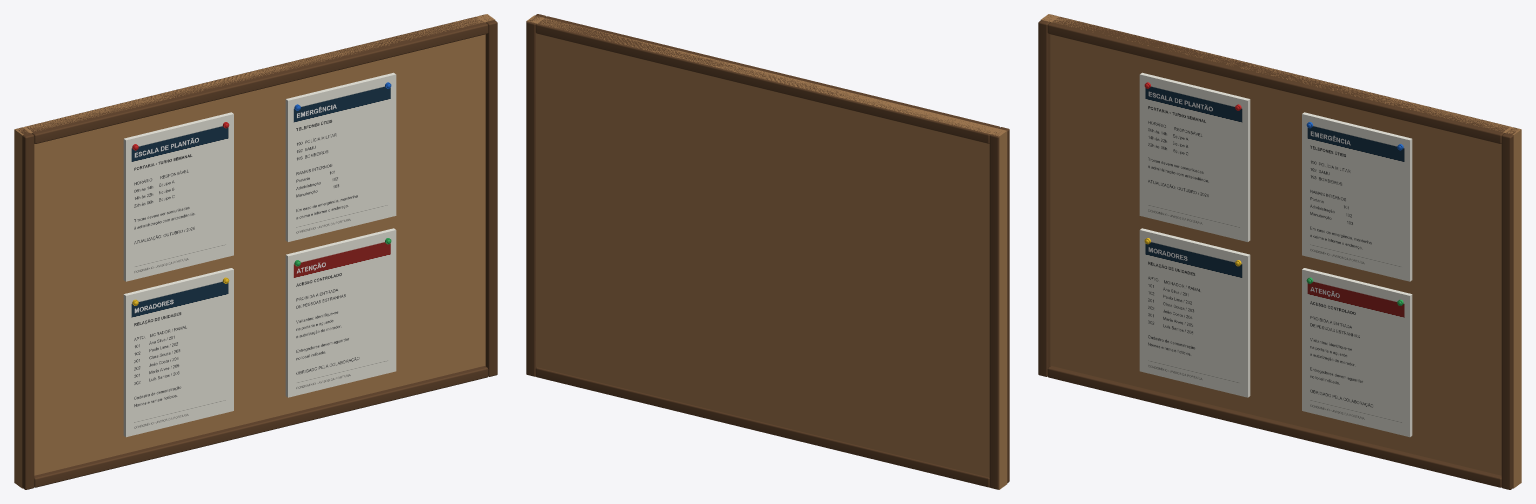
Rendered from quadro_avisos.glb.
3 renders of one model, left to right at view 1: azimuth 30°, elevation 25°; view 2: azimuth 150°, elevation 25°; view 3: azimuth 330°, elevation 25°, orthographic.
Visible parts, largest first — view 1: GuaritaC_Quadro_Avisos.001, GuaritaC_Aviso_Papel.006, GuaritaC_Aviso_Papel.005, GuaritaC_Aviso_Papel.004, GuaritaC_Aviso_Papel.007, Moldura horizontal.001, Moldura horizontal, Moldura lateral, Moldura lateral.001; view 2: GuaritaC_Quadro_Avisos.001, Moldura horizontal.001, Moldura lateral, Moldura horizontal, Moldura lateral.001; view 3: GuaritaC_Quadro_Avisos.001, GuaritaC_Aviso_Papel.007, GuaritaC_Aviso_Papel.004, GuaritaC_Aviso_Papel.005, GuaritaC_Aviso_Papel.006, Moldura horizontal.001, Moldura horizontal, Moldura lateral.001, Moldura lateral.
Boxes of the visible parts, x1=… form: GuaritaC_Quadro_Avisos.001: x1=14, y1=14, x2=494, y2=488; GuaritaC_Aviso_Papel.006: x1=285, y1=228, x2=396, y2=397; GuaritaC_Aviso_Papel.005: x1=285, y1=72, x2=396, y2=241; GuaritaC_Aviso_Papel.004: x1=123, y1=112, x2=233, y2=281; GuaritaC_Aviso_Papel.007: x1=123, y1=268, x2=233, y2=437; Moldura horizontal.001: x1=25, y1=16, x2=488, y2=143; Moldura horizontal: x1=34, y1=366, x2=488, y2=487; Moldura lateral: x1=16, y1=127, x2=34, y2=489; Moldura lateral.001: x1=479, y1=14, x2=497, y2=376; GuaritaC_Quadro_Avisos.001: x1=526, y1=15, x2=1007, y2=489; Moldura horizontal.001: x1=535, y1=16, x2=999, y2=143; Moldura lateral: x1=989, y1=127, x2=1009, y2=489; Moldura horizontal: x1=535, y1=367, x2=989, y2=487; Moldura lateral.001: x1=526, y1=14, x2=545, y2=376; GuaritaC_Quadro_Avisos.001: x1=1041, y1=14, x2=1521, y2=488; GuaritaC_Aviso_Papel.007: x1=1139, y1=228, x2=1250, y2=397; GuaritaC_Aviso_Papel.004: x1=1139, y1=72, x2=1250, y2=241; GuaritaC_Aviso_Papel.005: x1=1302, y1=112, x2=1412, y2=281; GuaritaC_Aviso_Papel.006: x1=1302, y1=268, x2=1412, y2=437; Moldura horizontal.001: x1=1047, y1=17, x2=1509, y2=143; Moldura horizontal: x1=1047, y1=366, x2=1501, y2=487; Moldura lateral.001: x1=1501, y1=127, x2=1518, y2=489; Moldura lateral: x1=1038, y1=14, x2=1056, y2=376.
Size of the model in its own units: 0.7 by 0.5 by 0.0335.
10 materials, 4 textured.
